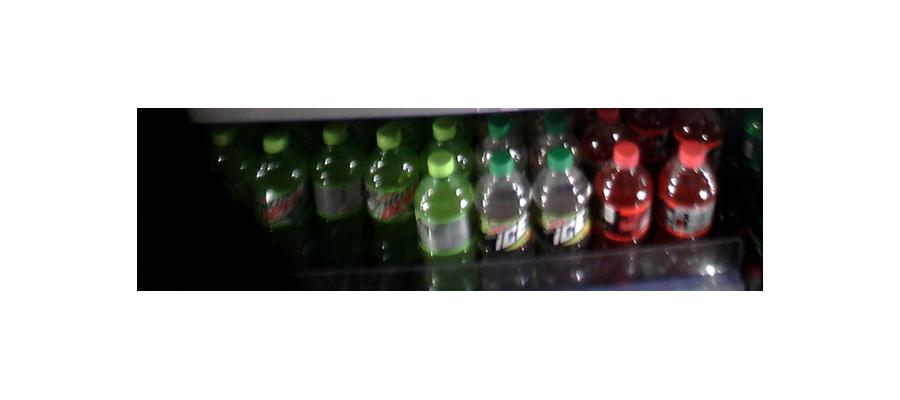bottle: (477, 122, 532, 293), (311, 125, 364, 275), (535, 139, 589, 285), (367, 126, 420, 272), (421, 149, 474, 291), (657, 125, 717, 243), (254, 135, 306, 270), (597, 144, 651, 259)
